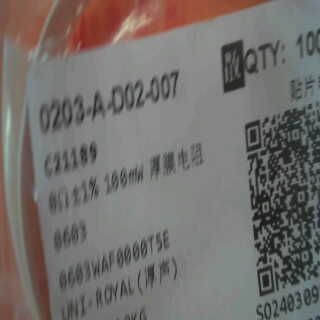0R: (47, 174, 103, 252)
